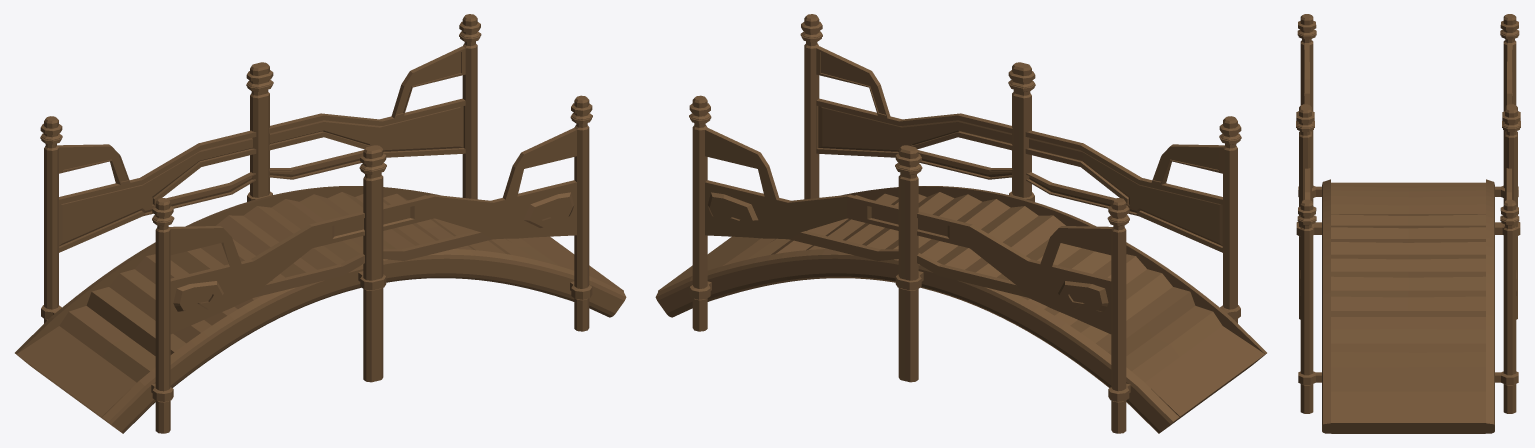
The model's file is BRIDGE.fbx.
The picture shows the model from 3 angles, left to right: view 1: azimuth 30°, elevation 25°; view 2: azimuth 150°, elevation 25°; view 3: azimuth 270°, elevation 25°; orthographic projection. The views are drawn at different scales.
Visible parts, largest first — view 1: NurbsCurve; view 2: NurbsCurve; view 3: NurbsCurve.
Part boxes in pixels (<box>): NurbsCurve: <box>15,14,626,433</box>; NurbsCurve: <box>655,14,1266,433</box>; NurbsCurve: <box>1296,14,1520,433</box>.
Size of the model in its own units: 392 by 955 by 417.
1 material, 1 textured.
